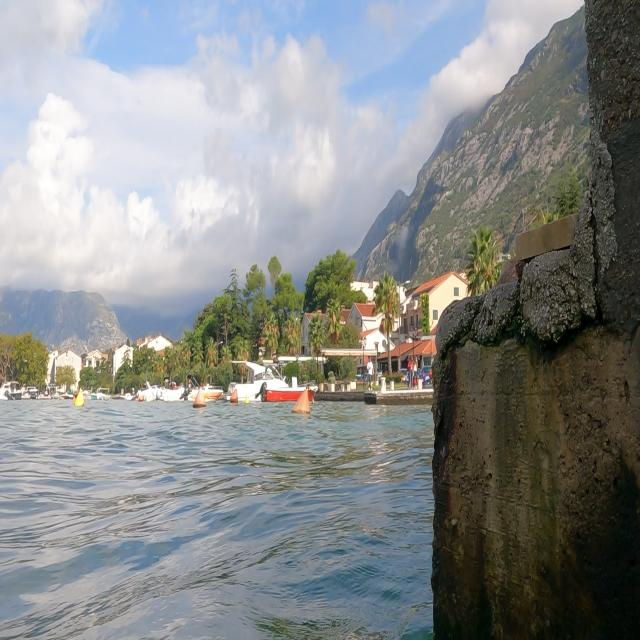boat: (224, 354, 298, 404)
buoy: (291, 385, 315, 421), (189, 382, 209, 413), (72, 386, 87, 414)
